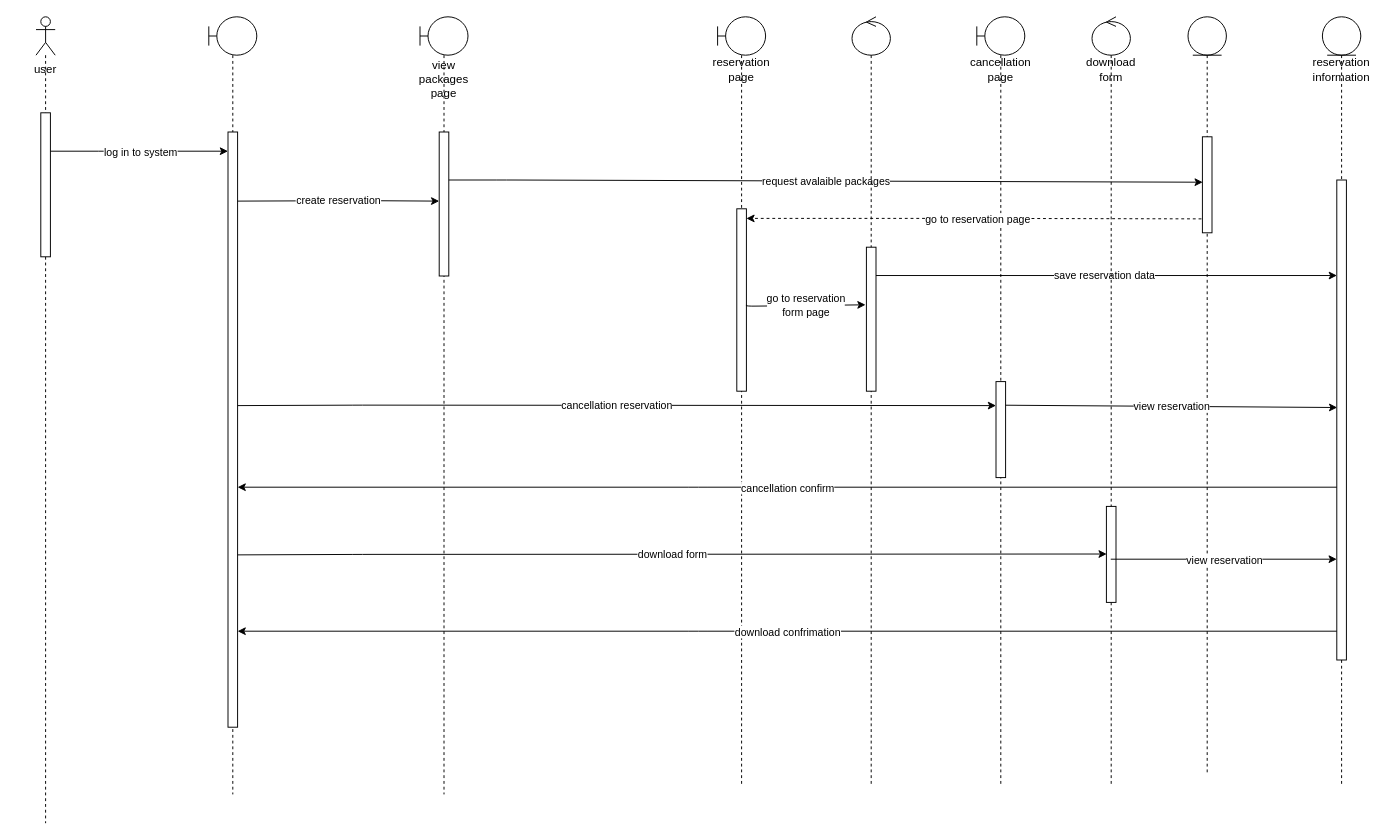
The diagram is 1386 pixels wide and 840 high, and some of its shapes have lost their labels. Here are the shapes that lost their labels. From the top down, the box of each, then its label:
(208, 16, 257, 794): Main Page
(851, 16, 890, 785): reservation form
(1187, 16, 1226, 775): avalaible package
